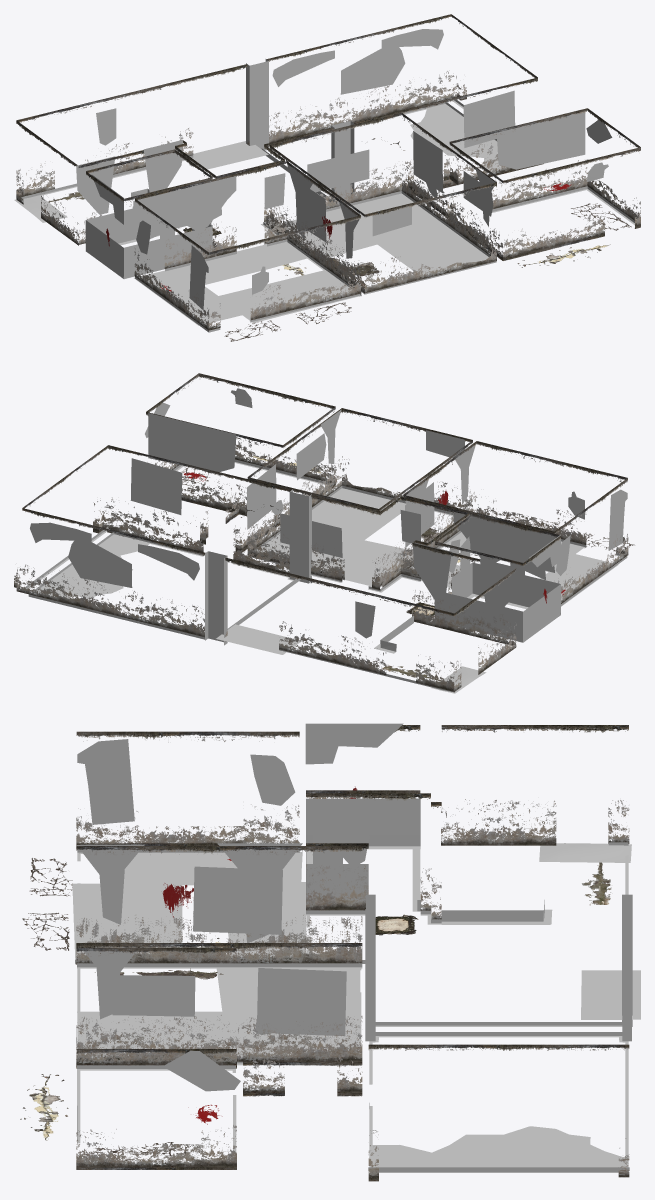
File: A1_H3_Decals.FBX
3 renders of one model, top to bottom at view 1: azimuth 30°, elevation 25°; view 2: azimuth 150°, elevation 25°; view 3: azimuth 270°, elevation 25°, orthographic. The views are drawn at different scales.
Parts seen in each view (by area): view 1: A1_H3_Decals; view 2: A1_H3_Decals; view 3: A1_H3_Decals.
Part boxes in pixels (left/top/right/bottom): A1_H3_Decals: left=14, top=14, right=640, bottom=341; A1_H3_Decals: left=14, top=373, right=634, bottom=693; A1_H3_Decals: left=20, top=723, right=640, bottom=1181.
Size of the model in its own units: 1874 by 354 by 1502.
